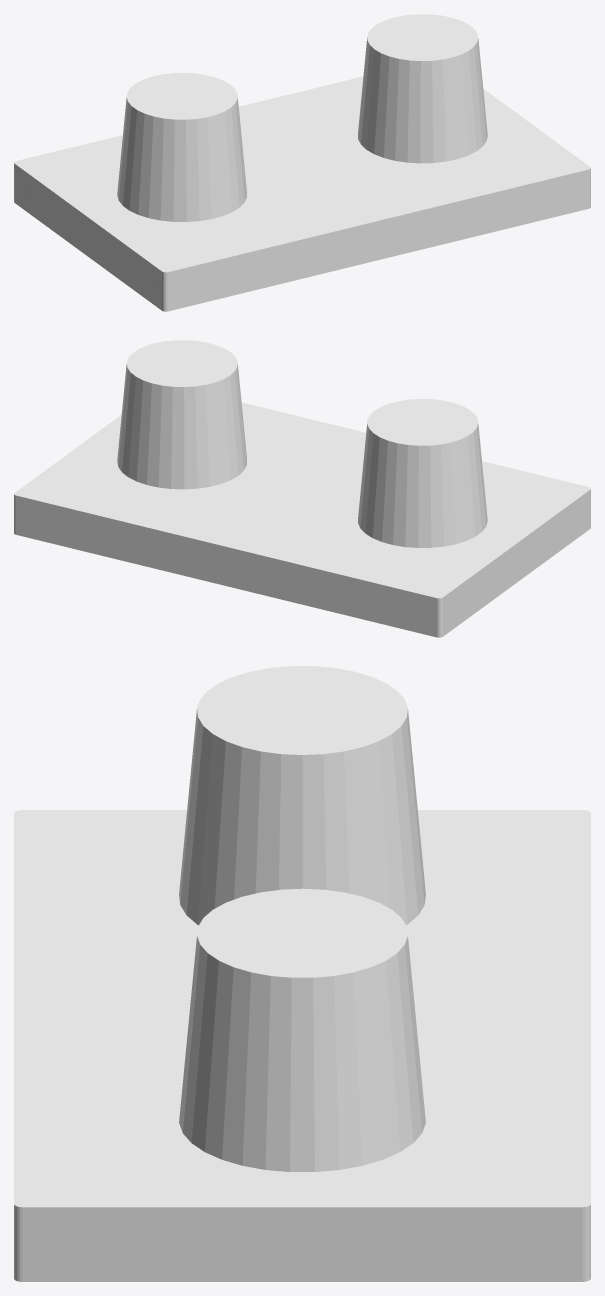
Rendered from drop_garlic.obj.
The picture shows the model from 3 angles, top to bottom: view 1: azimuth 30°, elevation 25°; view 2: azimuth 150°, elevation 25°; view 3: azimuth 270°, elevation 25°; orthographic projection. The views are drawn at different scales.
Visible parts, largest first — view 1: Stol22; view 2: Stol22; view 3: Stol22.
Boxes of the visible parts, <box> form: Stol22: <box>14,14,590,311</box>; Stol22: <box>14,340,590,637</box>; Stol22: <box>14,666,590,1281</box>.
Bounding box in the file's own units: 114 × 35 × 70.
